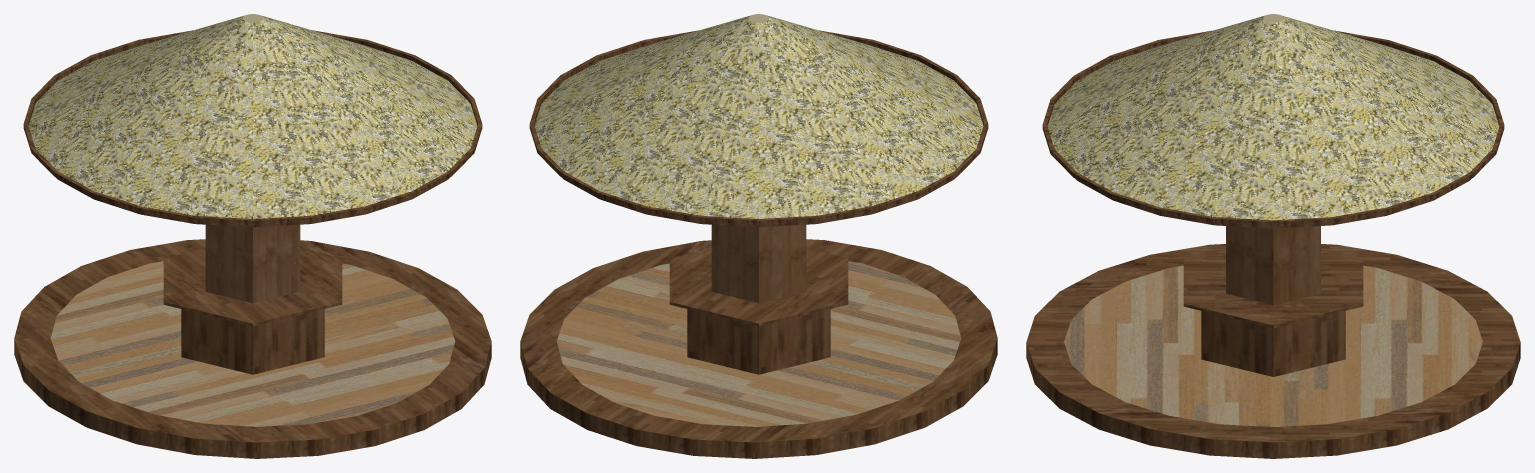
Rendered from PirateObstacle2.fbx.
3 renders of one model, left to right at view 1: azimuth 30°, elevation 25°; view 2: azimuth 150°, elevation 25°; view 3: azimuth 270°, elevation 25°, orthographic.
Visible parts, largest first — view 1: Group1, Group2; view 2: Group1, Group2; view 3: Group1, Group2.
Boxes of the visible parts, x1,y1,x2,y2 form: Group1: (14,224,491,458); Group2: (23,14,482,227); Group1: (520,224,997,458); Group2: (529,14,988,227); Group1: (1026,226,1520,458); Group2: (1042,14,1504,228).
Bounding box in the file's own units: 204 × 161 × 212.
